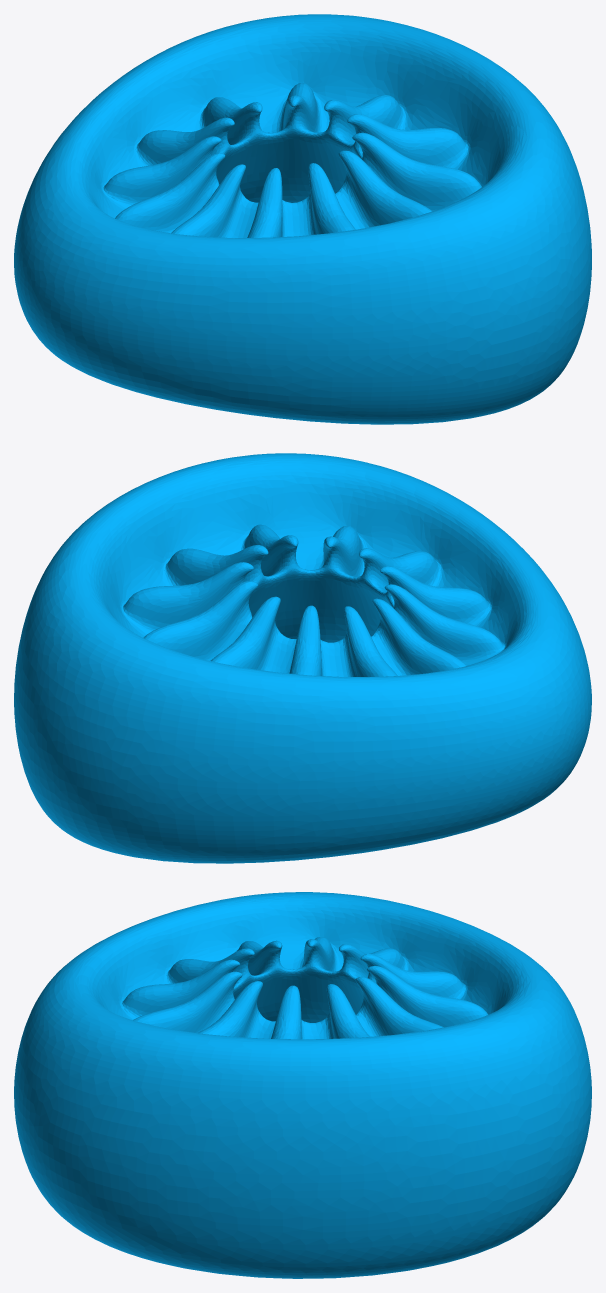
The model's file is HaikoCore.glb.
The picture shows the model from 3 angles, top to bottom: view 1: azimuth 30°, elevation 25°; view 2: azimuth 150°, elevation 25°; view 3: azimuth 270°, elevation 25°; orthographic projection. The views are drawn at different scales.
Visible parts, largest first — view 1: Torus; view 2: Torus; view 3: Torus.
Part boxes in pixels (<box>): Torus: <box>14,14,591,424</box>; Torus: <box>14,453,591,863</box>; Torus: <box>14,892,591,1278</box>.
Size of the model in its own units: 3.89 by 1.8 by 4.02.
